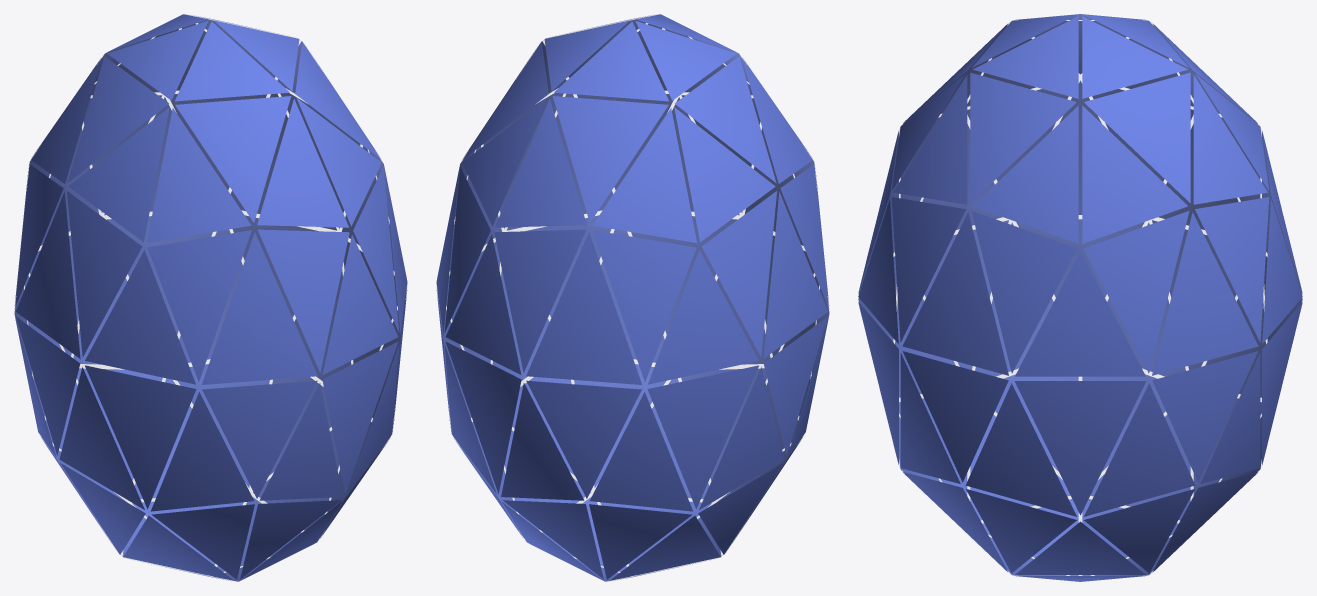
The model's file is Extra 2.fbx.
3 views of the same model, side by side, from view 1: azimuth 30°, elevation 25°; view 2: azimuth 150°, elevation 25°; view 3: azimuth 270°, elevation 25° (orthographic).
Parts seen in each view (by area): view 1: Extra 2; view 2: Extra 2; view 3: Extra 2.
Part boxes in pixels (x1=…): Extra 2: x1=14, y1=14, x2=407, y2=581; Extra 2: x1=436, y1=14, x2=829, y2=581; Extra 2: x1=858, y1=14, x2=1302, y2=581.
Bounding box in the file's own units: 122 × 199 × 142.
